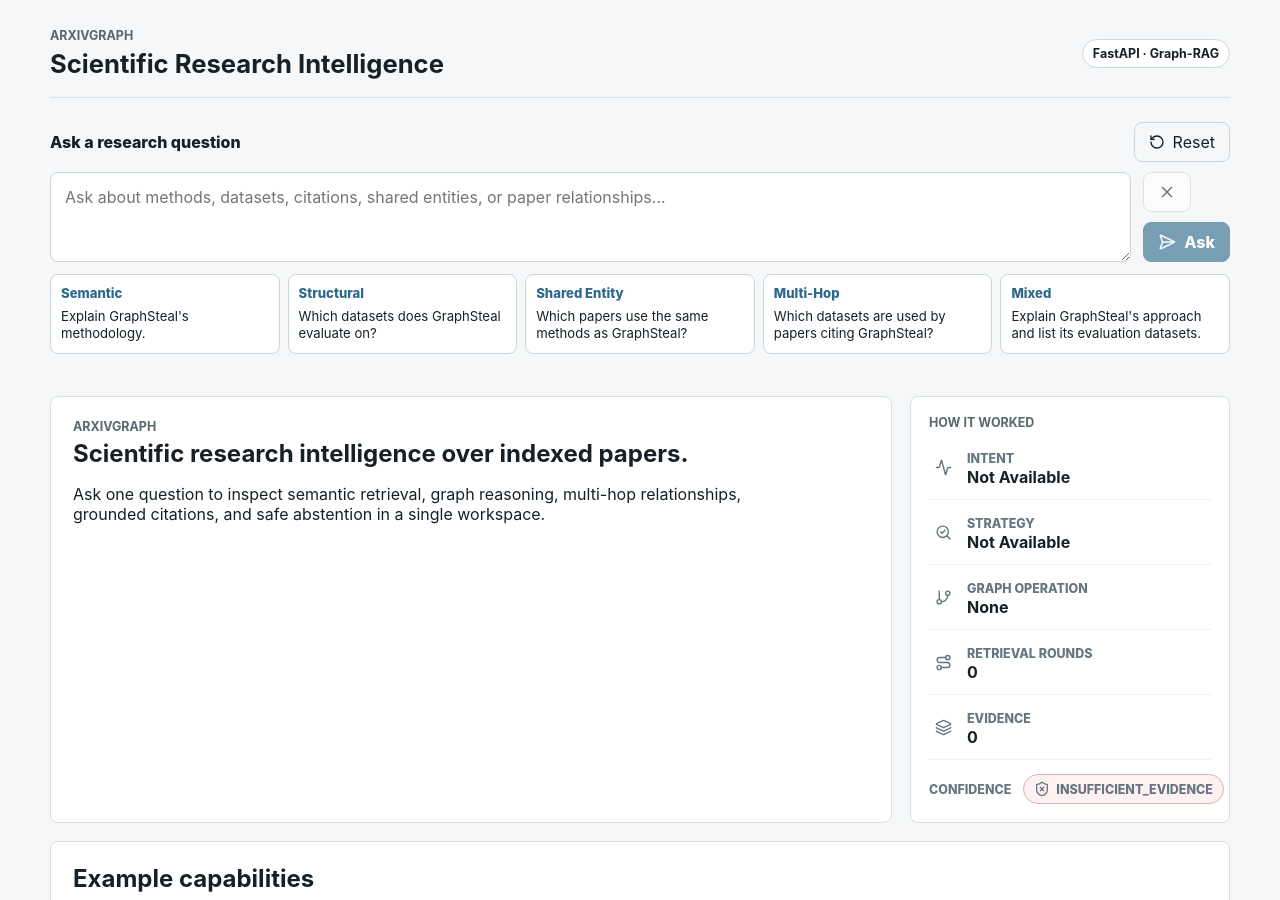
Scenario: ArXivGraph research UI › shows backend errors with a retry action
Step 1. Type "Which datasets does Paper A evaluate on?" into the text box labelled "Ask a research question" → (591, 217), box [50, 172, 1131, 262]
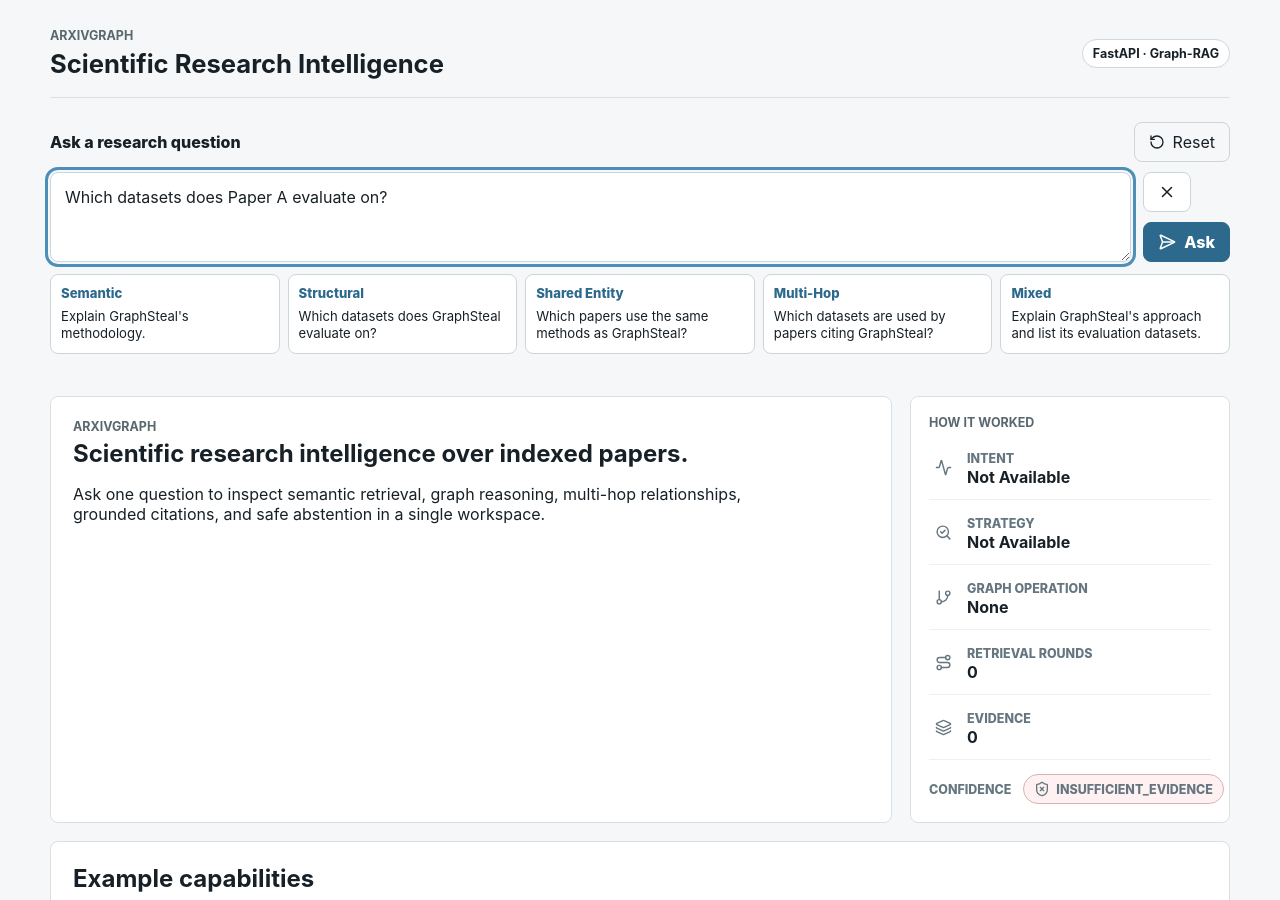
Step 2. Click the button "Ask" → (1187, 242), box [1143, 222, 1230, 262]
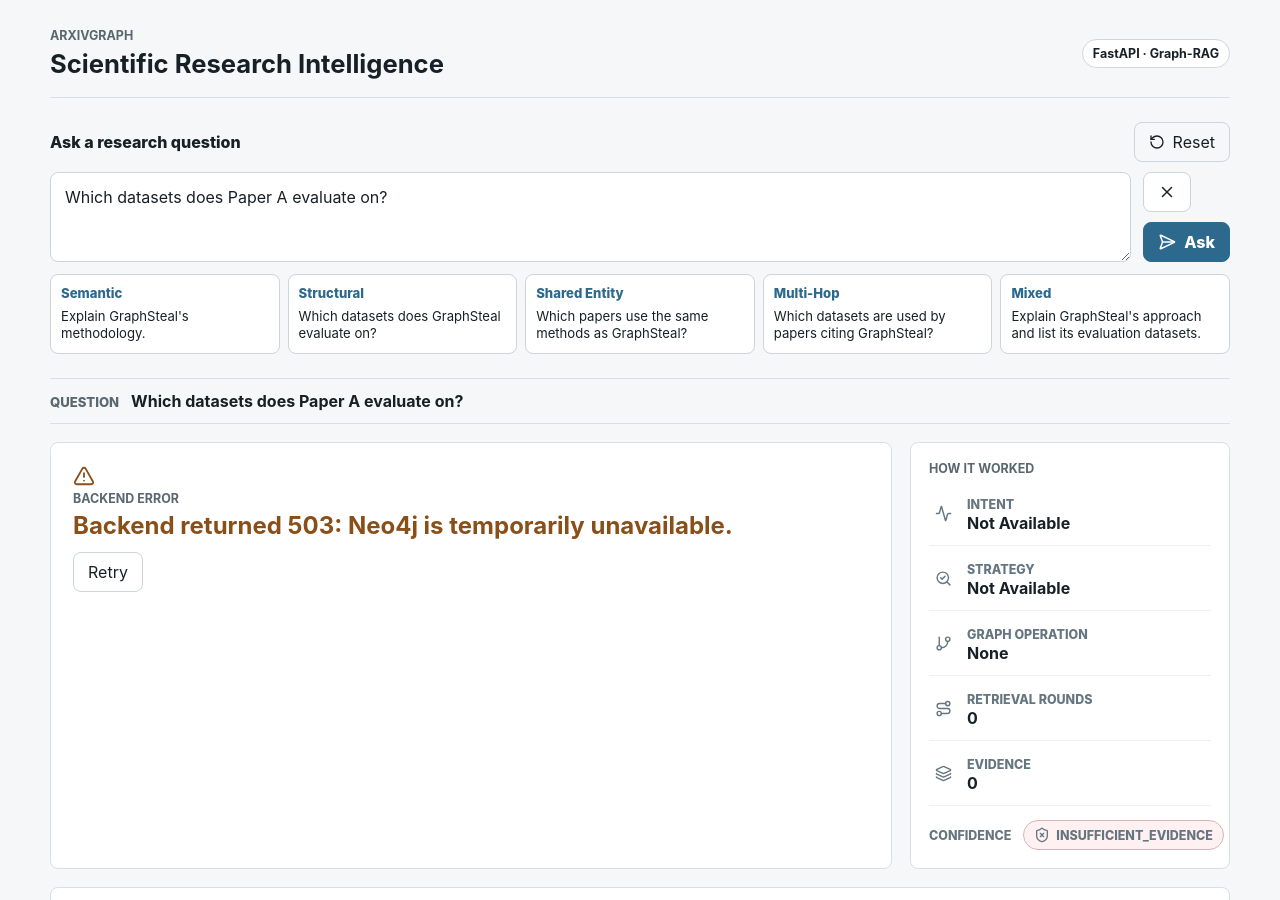
Expected: the heading "Backend returned 503: Neo4j is temporarily unavailable." is shown, [73, 511, 733, 540]
Step 3. Click the button "Retry" → (108, 572), box [73, 552, 143, 592]
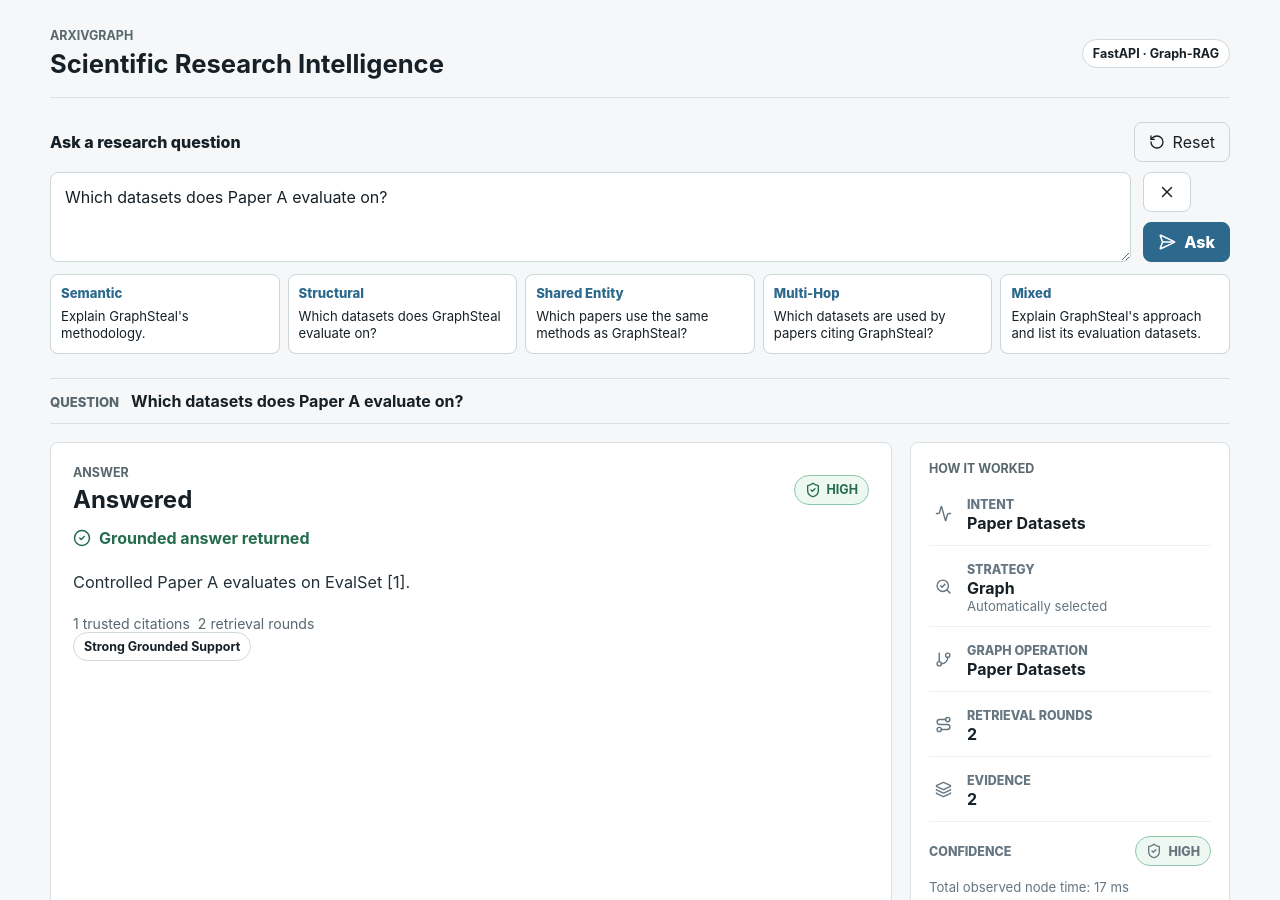
Expected: the text "Controlled Paper A evaluates on EvalSet [1]." is shown, [73, 572, 410, 592]
